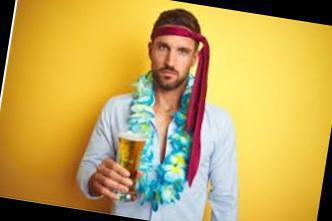Drunk: (155, 34, 191, 84)
